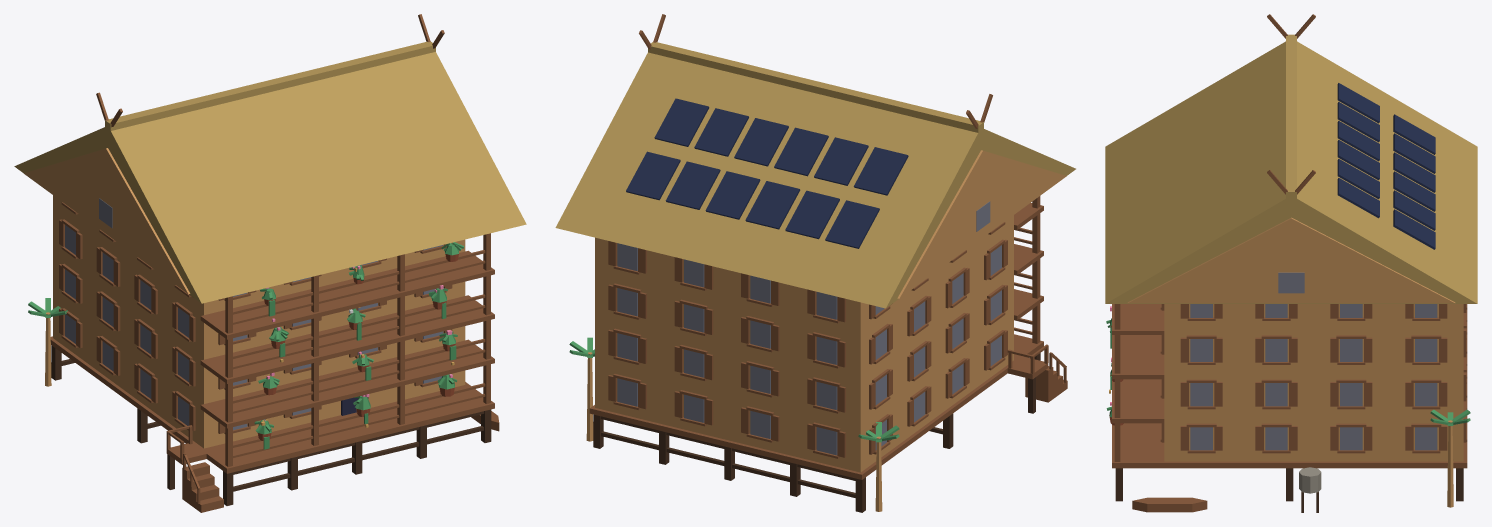
File: house-2x2-4f-stilt-a-solar.glb
3 views of the same model, side by side, from view 1: azimuth 30°, elevation 25°; view 2: azimuth 150°, elevation 25°; view 3: azimuth 270°, elevation 25° (orthographic). The views are drawn at different scales.
Visible parts, largest first — view 1: house-2x2-4f-stilt-a-solar; view 2: house-2x2-4f-stilt-a-solar; view 3: house-2x2-4f-stilt-a-solar.
Part boxes in pixels (x1=…): house-2x2-4f-stilt-a-solar: x1=14, y1=14, x2=526, y2=512; house-2x2-4f-stilt-a-solar: x1=555, y1=14, x2=1075, y2=512; house-2x2-4f-stilt-a-solar: x1=1105, y1=14, x2=1477, y2=512.
Size of the model in its own units: 2.02 by 2.03 by 1.99.
1 material, 1 textured.
